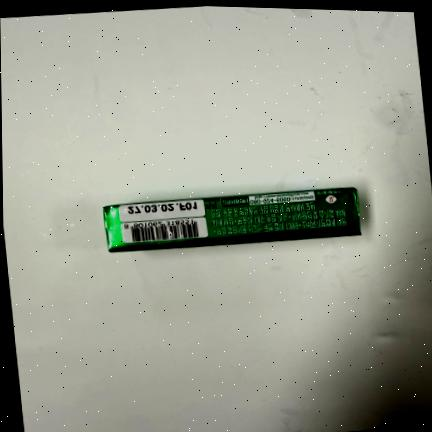gum_green: (104, 187, 361, 252)
